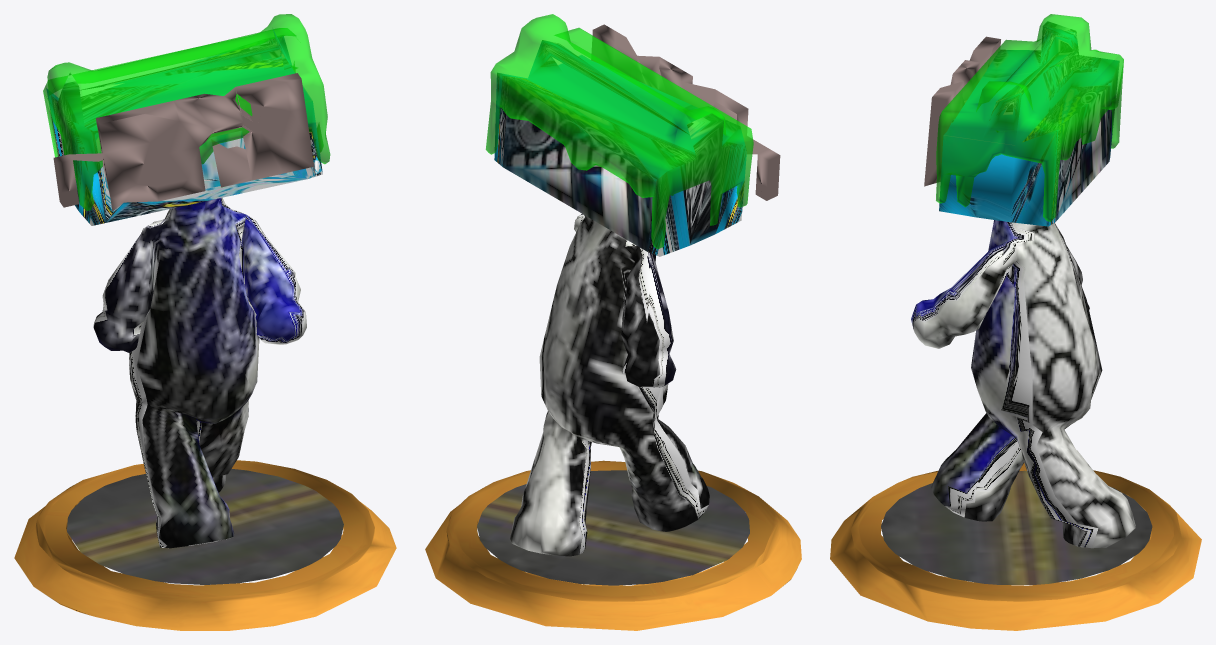
The picture shows the model from 3 angles, left to right: view 1: azimuth 30°, elevation 25°; view 2: azimuth 150°, elevation 25°; view 3: azimuth 270°, elevation 25°; orthographic projection. The views are drawn at different scales.
Size of the model in its own units: 1.45 by 2.16 by 1.44.
6 materials, 5 textured.
